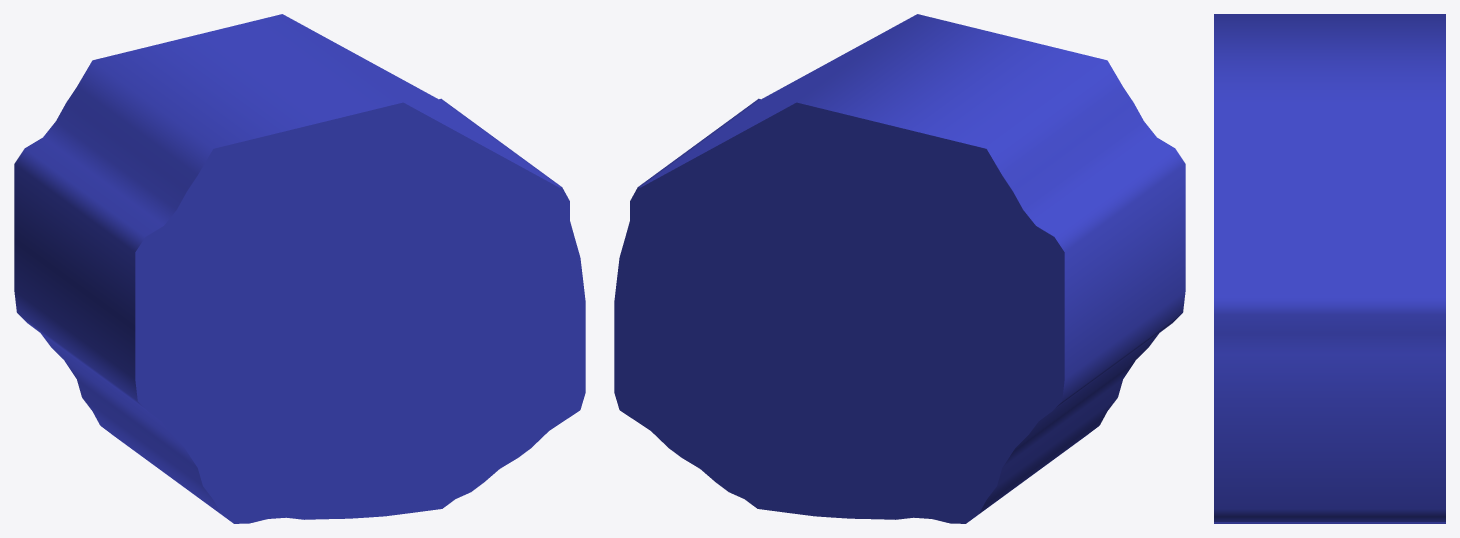
Rendered from coal3.fbx.
3 views of the same model, side by side, from view 1: azimuth 30°, elevation 25°; view 2: azimuth 150°, elevation 25°; view 3: azimuth 270°, elevation 25° (orthographic). The views are drawn at different scales.
Visible parts, largest first — view 1: root; view 2: root; view 3: root.
Boxes of the visible parts, box(x1,y1,x2,y2) form: root: box(14, 14, 585, 523); root: box(614, 14, 1185, 523); root: box(1214, 14, 1445, 523).
Size of the model in its own units: 0.0273 by 0.0241 by 0.0127.
